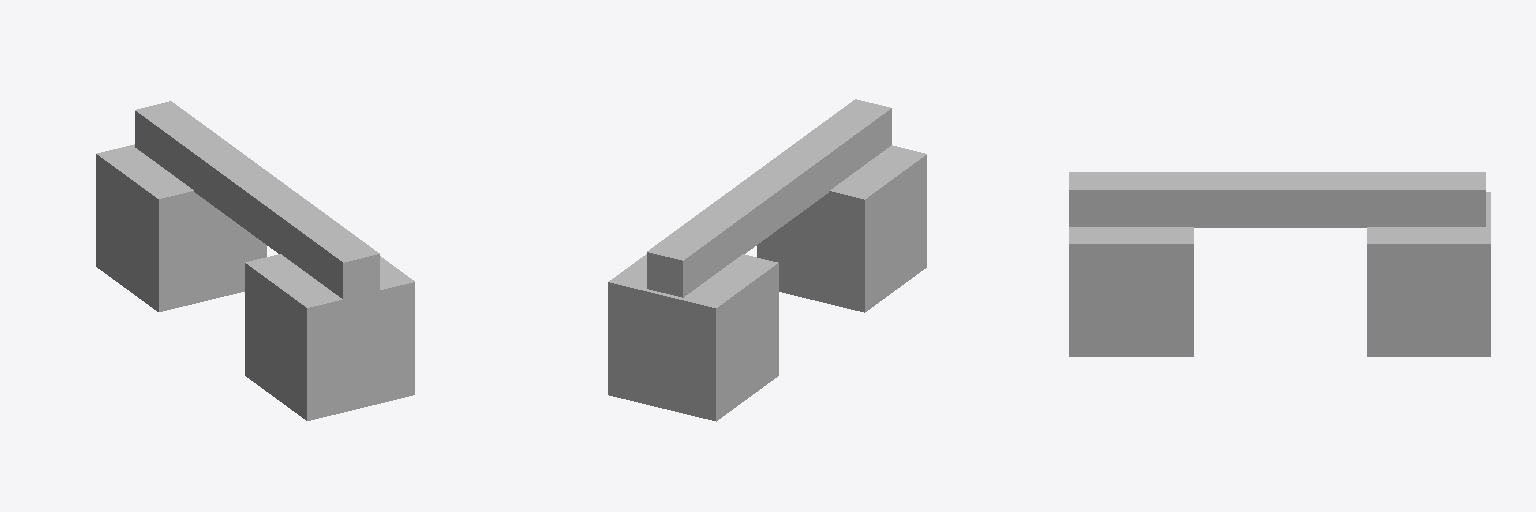
File: phoneHandle_placeholder.obj
The picture shows the model from 3 angles: view 1: azimuth 30°, elevation 25°; view 2: azimuth 150°, elevation 25°; view 3: azimuth 270°, elevation 25°; orthographic projection.
Parts seen in each view (by area): view 1: Cube, Cube.001, Cube.002; view 2: Cube.001, Cube, Cube.002; view 3: Cube.002, Cube.001, Cube.
Boxes of the visible parts, <box> form: Cube: <box>245,254,414,420</box>; Cube.001: <box>96,144,266,311</box>; Cube.002: <box>135,101,379,300</box>; Cube.001: <box>608,254,778,421</box>; Cube: <box>757,145,926,312</box>; Cube.002: <box>647,99,891,297</box>; Cube.002: <box>1069,172,1485,227</box>; Cube.001: <box>1367,192,1490,356</box>; Cube: <box>1069,227,1193,356</box>.
Bounding box in the file's own units: 2 × 2.65 × 6.77.